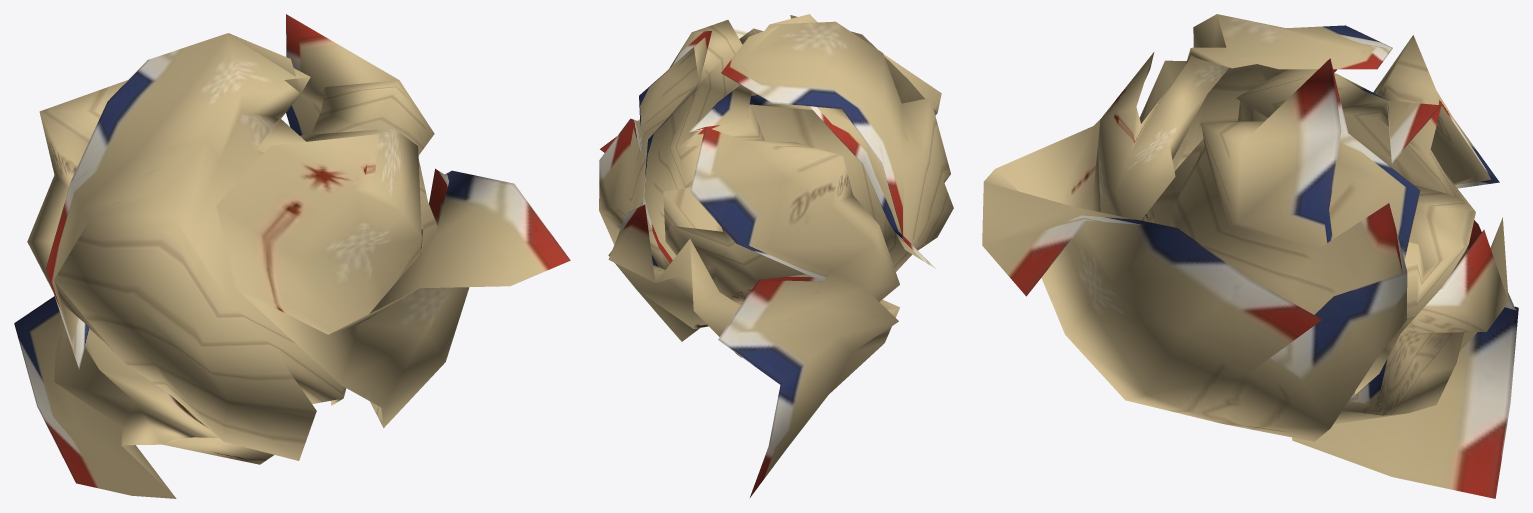
Rendered from Model_Paper.fbx.
3 views of the same model, side by side, from view 1: azimuth 30°, elevation 25°; view 2: azimuth 150°, elevation 25°; view 3: azimuth 270°, elevation 25° (orthographic). The views are drawn at different scales.
Visible parts, largest first — view 1: Plane; view 2: Plane; view 3: Plane.
Boxes of the visible parts, x1,y1,x2,y2 form: Plane: [14, 14, 570, 498]; Plane: [599, 14, 953, 497]; Plane: [982, 14, 1518, 498].
Size of the model in its own units: 72.61 by 86.52 by 83.41.
Materials: 1 (1 with a texture image).
